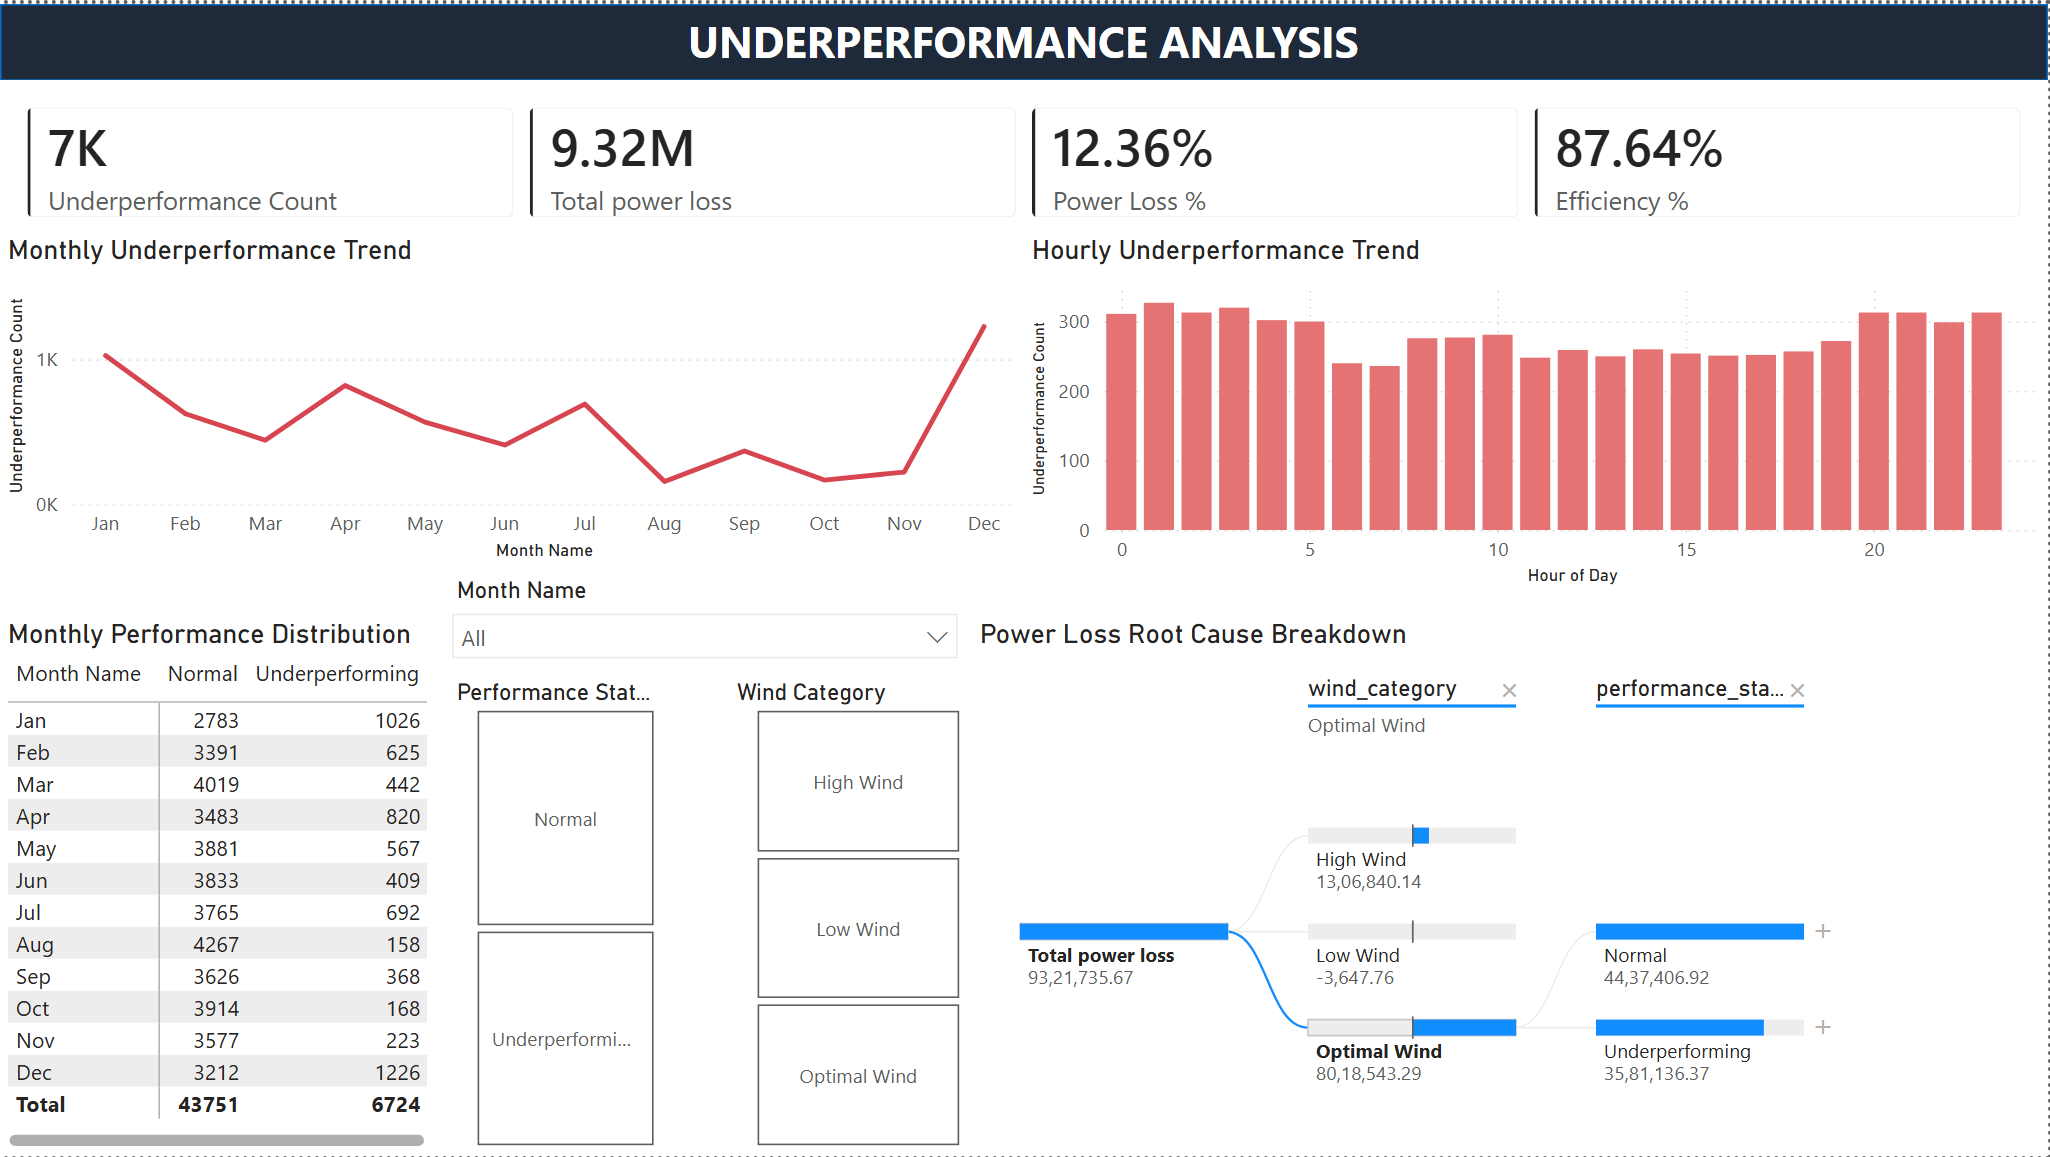

Layout of this report page (visuals, bound fields, positions):
{"tool":"powerbi","page":{"name":"Underperformance Analysis","canvas":[1280,720],"ordinal":2},"visuals":[{"type":"shape","box":[0,0,1280,48],"z":0},{"type":"textbox","box":[368,0,544,48],"z":1000},{"type":"cardVisual","fields":{"Data":["Date Table.Underperformance Count","Date Table.Total power loss","Date Table.Power Loss %","Date Table.Efficiency %"]},"box":[0,48,1280,103],"z":2000},{"type":"lineChart","title":"Monthly Underperformance Trend","fields":{"Category":["Date Table.Month Name"],"Y":["Date Table.Underperformance Count"]},"box":[0,144,640,208],"z":3000},{"type":"clusteredColumnChart","title":"Hourly Underperformance Trend","fields":{"Category":["wind_scada_analysis_202605160306.reading_hour"],"Y":["Date Table.Underperformance Count"]},"box":[640,144,640,224],"z":4000},{"type":"pivotTable","title":"Monthly Performance Distribution","fields":{"Rows":["Date Table.Month Name"],"Columns":["wind_scada_analysis_202605160306.performance_status"],"Values":["Date Table.Total Records"]},"box":[0,384,272,336],"z":5000},{"type":"decompositionTreeVisual","title":"Power Loss Root Cause Breakdown","fields":{"Analyze":["Date Table.Total power loss"],"ExplainBy":["wind_scada_analysis_202605160306.wind_category","wind_scada_analysis_202605160306.performance_status","Date Table.Month Name","wind_scada_analysis_202605160306.reading_hour"]},"box":[608,384,656,336],"z":6000},{"type":"slicer","fields":{"Values":["Date Table.Month Name"]},"box":[272,352,336,64],"z":7000},{"type":"slicer","fields":{"Values":["wind_scada_analysis_202605160306.performance_status"]},"box":[272,416,160,304],"z":8000},{"type":"slicer","fields":{"Values":["wind_scada_analysis_202605160306.wind_category"]},"box":[448,416,176,304],"z":9000}]}

Visuals, with their boxes in screenshot pixels (x1, y1, x2, y2), scaled from the page's 1280x720 canvas onto the 2050x1157 screenshot:
shape: bbox=[0, 0, 2049, 77]
textbox: bbox=[589, 0, 1461, 77]
cardVisual - Date Table.Underperformance Count x Date Table.Total power loss: bbox=[0, 77, 2049, 243]
"Monthly Underperformance Trend" lineChart: bbox=[0, 231, 1025, 566]
"Hourly Underperformance Trend" clusteredColumnChart: bbox=[1025, 231, 2049, 591]
"Monthly Performance Distribution" pivotTable: bbox=[0, 617, 436, 1156]
"Power Loss Root Cause Breakdown" decompositionTreeVisual: bbox=[974, 617, 2024, 1156]
slicer - Date Table.Month Name: bbox=[436, 566, 974, 668]
slicer - wind_scada_analysis_202605160306.performance_status: bbox=[436, 668, 692, 1156]
slicer - wind_scada_analysis_202605160306.wind_category: bbox=[718, 668, 999, 1156]
